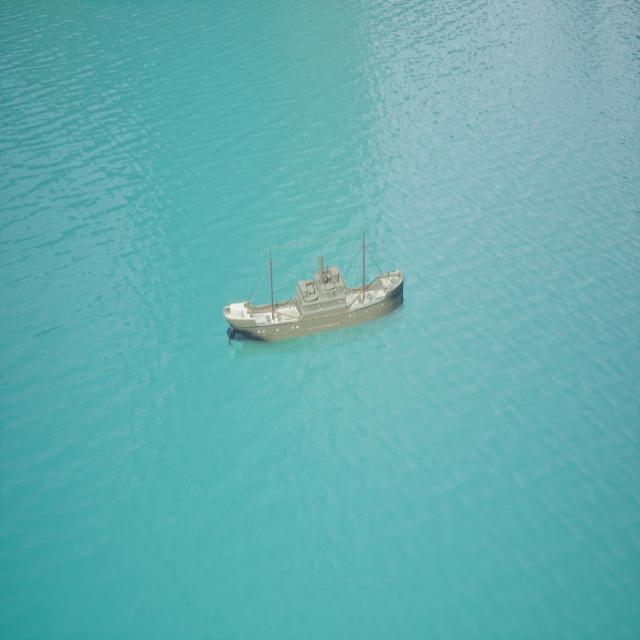fishing ship: (225, 250, 405, 348)
